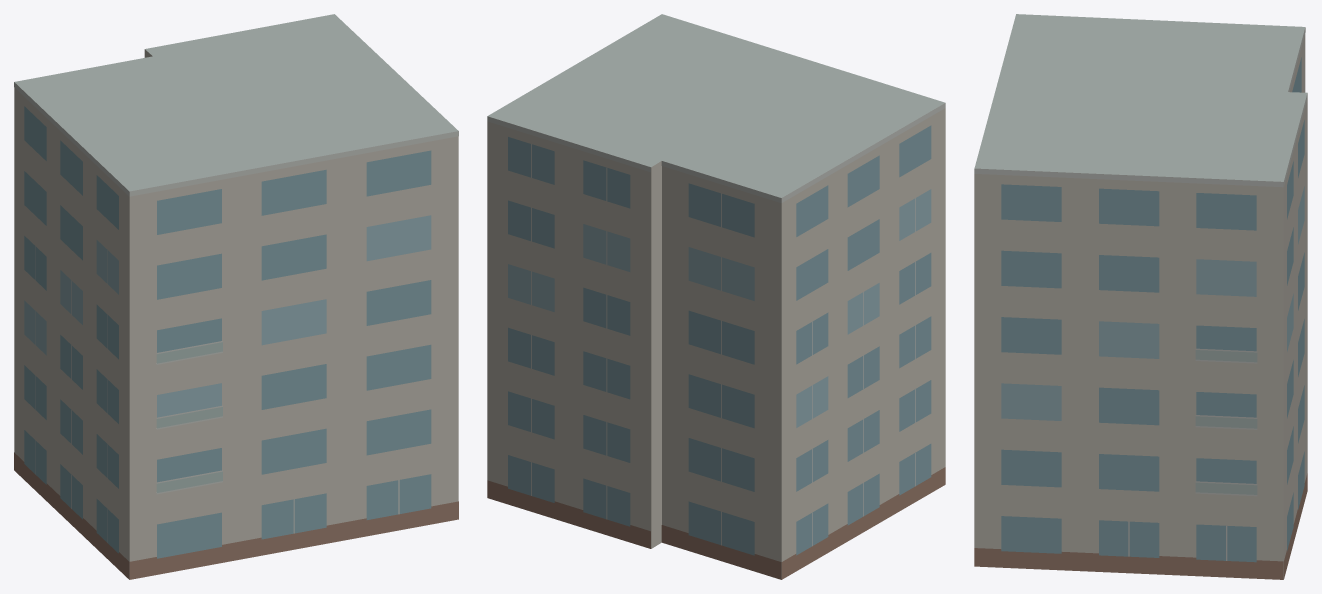
File: survey-upis-32704978.glb
3 renders of one model, left to right at view 1: azimuth 30°, elevation 25°; view 2: azimuth 150°, elevation 25°; view 3: azimuth 270°, elevation 25°, orthographic. The views are drawn at different scales.
Parts seen in each view (by area): view 1: survey-upis-32704978.tmp; view 2: survey-upis-32704978.tmp; view 3: survey-upis-32704978.tmp.
Boxes of the visible parts, bbox=[...] form: survey-upis-32704978.tmp: bbox=[14, 14, 458, 579]; survey-upis-32704978.tmp: bbox=[487, 14, 945, 579]; survey-upis-32704978.tmp: bbox=[974, 14, 1307, 579].
Bounding box in the file's own units: 16.48 × 18.2 × 13.82.
